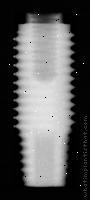Keystone Dental: (15, 13, 76, 188)
